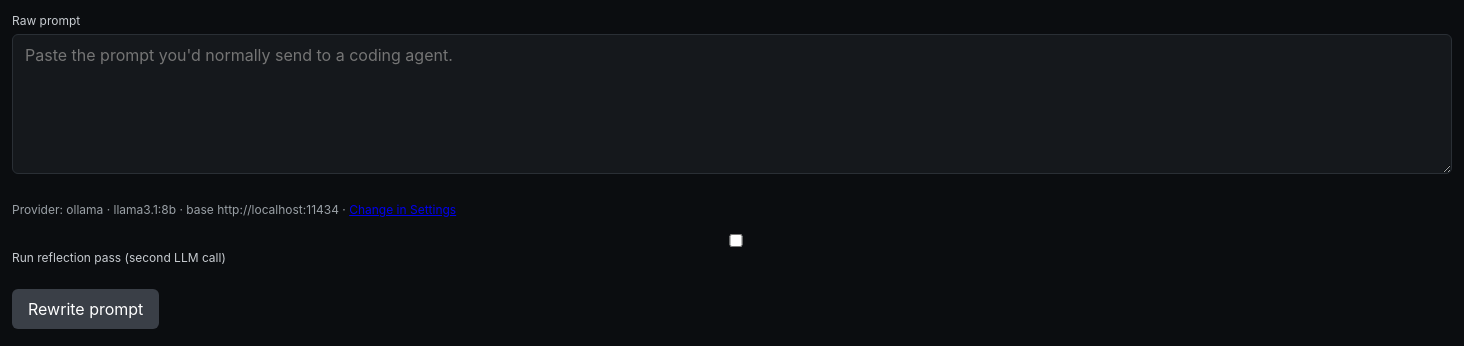
Test: <EnhanceForm /> › disables the rewrite button when prompt < 10 chars and enables at >= 10
Expected: the button "Rewrite prompt" is disabled, [12,289,159,329]
Step 1. Type "short" into the text box labelled "Raw prompt" → (732, 104), box [12,34,1452,174]
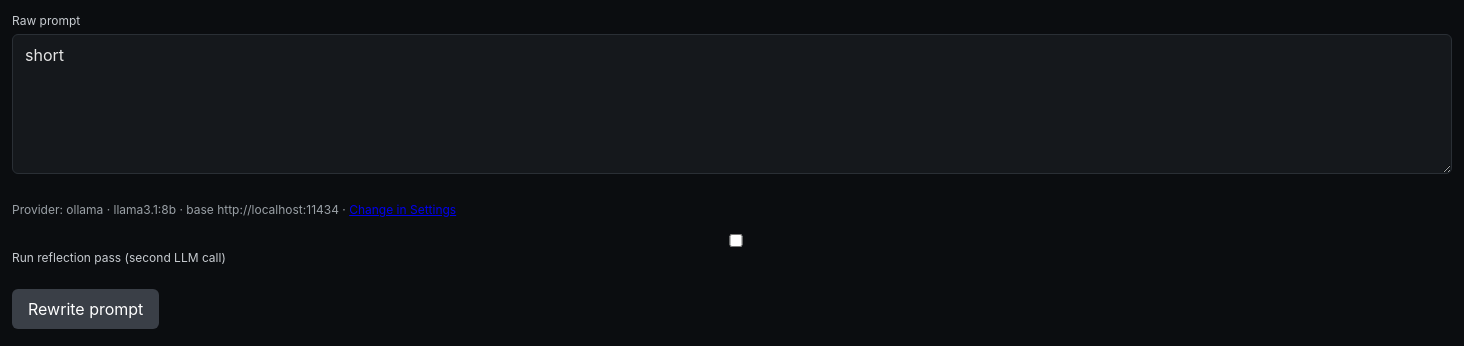
Expected: the button "Rewrite prompt" is disabled, [12,289,159,329]
Step 2. Replace the text in the text box labelled "Raw prompt" with "this is a long enough prompt" → (732, 104), box [12,34,1452,174]
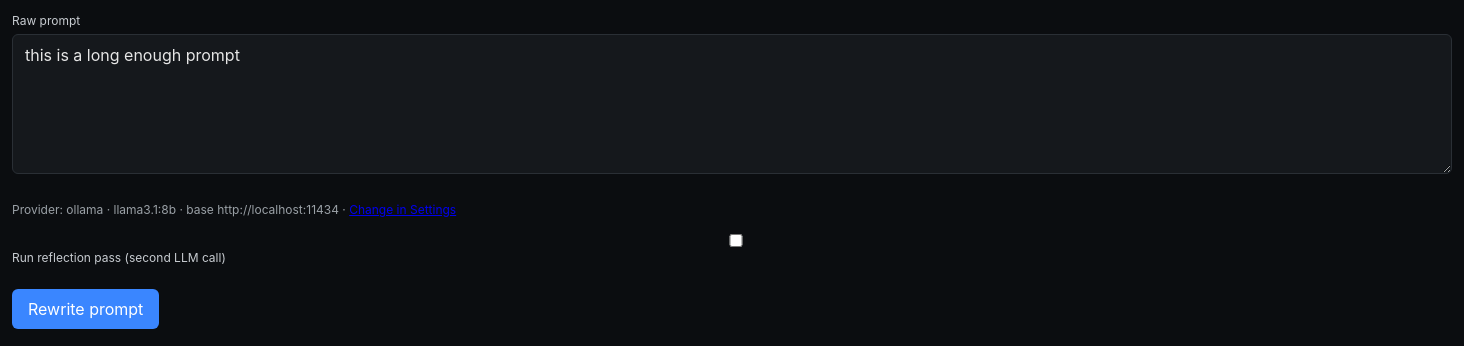
Now the button "Rewrite prompt" is enabled, box [12,289,159,329]
